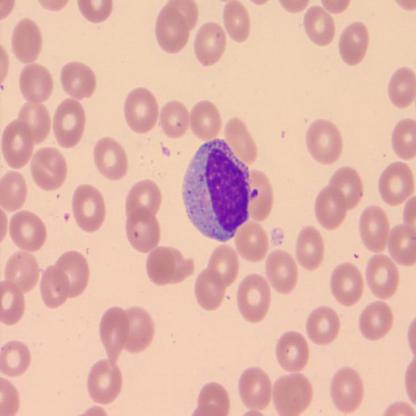Metamyelocyte: (178, 135, 261, 244)
